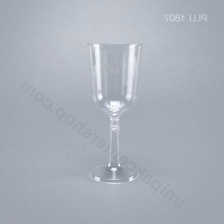glass: (74, 37, 145, 194)
